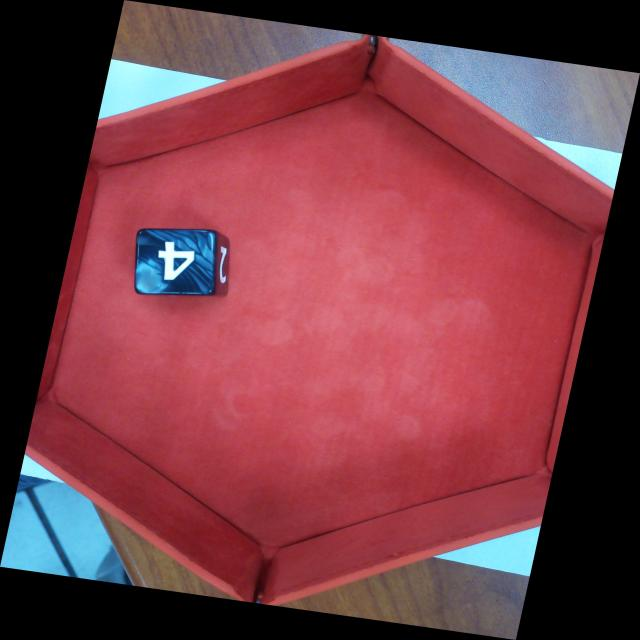dice: (132, 228, 219, 297)
